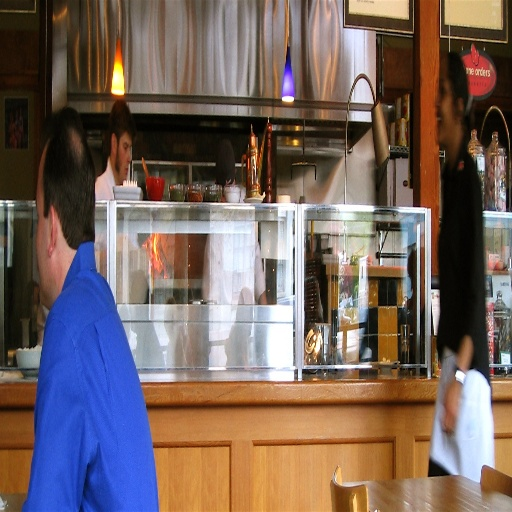hand: (440, 381, 462, 434)
